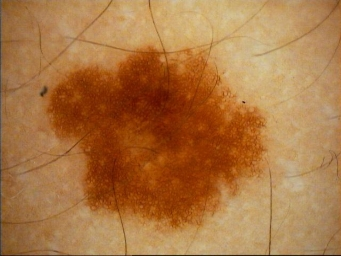melanoma: (51, 47, 266, 230)
